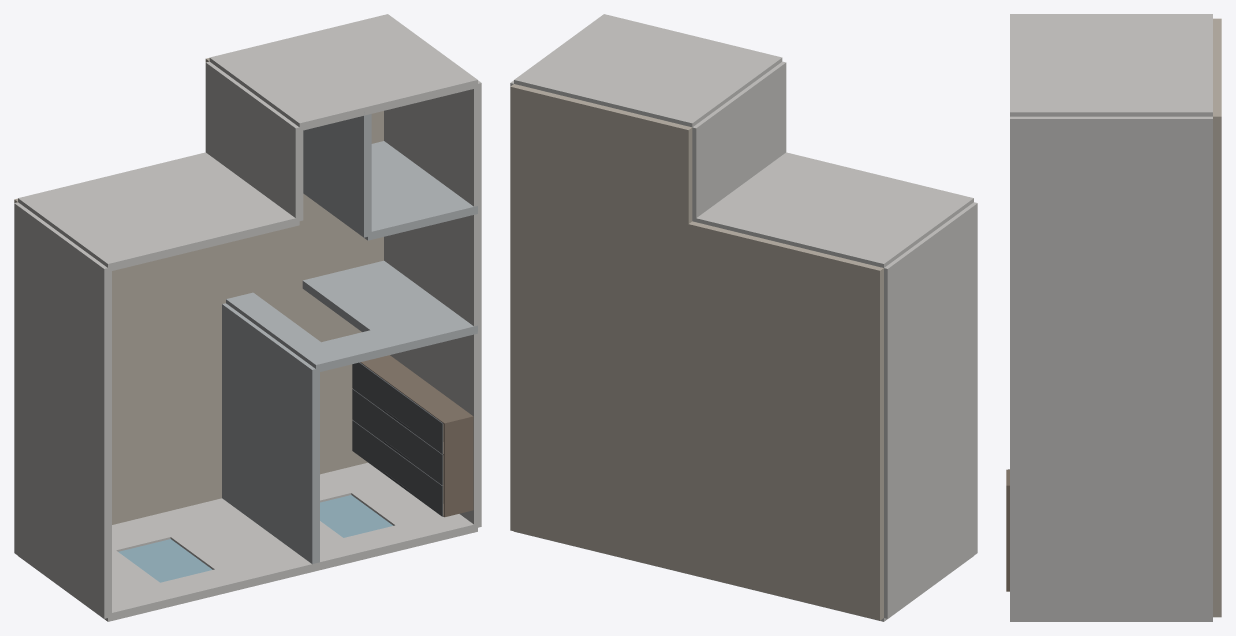
File: kvartira_so_shkafom.glb
The picture shows the model from 3 angles, left to right: view 1: azimuth 30°, elevation 25°; view 2: azimuth 150°, elevation 25°; view 3: azimuth 270°, elevation 25°; orthographic projection. The views are drawn at different scales.
Visible parts, largest first — view 1: Пол — основная часть, Наружная стена слева, Правая стена, Перегородка справа снизу, Верхняя левая стена, Верхняя стена выступа, Ступень выступа, Нижняя стена 2, Поперечная перегородка справа от проёма, Перегородка верхнего помещения, Перегородка верхнего помещения горизонтальная, Нижняя стена 3 (+13 smaller); view 2: Пол — основная часть, Наружная стена слева, Пол — верхний выступ, Верхняя левая стена, Верхняя стена выступа, Ступень выступа; view 3: Правая стена, Верхняя стена выступа, Пол — основная часть, Пол — верхний выступ, Нижняя стена 3, Шкаф — задняя стенка, тёмное дерево.
Boxes of the visible parts, bbox=[...] form: Пол — основная часть: bbox=[14, 113, 383, 524]; Наружная стена слева: bbox=[14, 202, 111, 618]; Правая стена: bbox=[384, 80, 481, 528]; Перегородка справа снизу: bbox=[222, 303, 319, 563]; Верхняя левая стена: bbox=[18, 152, 299, 271]; Верхняя стена выступа: bbox=[209, 14, 477, 130]; Ступень выступа: bbox=[205, 61, 303, 221]; Нижняя стена 2: bbox=[144, 498, 362, 590]; Поперечная перегородка справа от проёма: bbox=[302, 260, 477, 354]; Перегородка верхнего помещения: bbox=[303, 112, 371, 237]; Перегородка верхнего помещения горизонтальная: bbox=[304, 141, 477, 240]; Нижняя стена 3: bbox=[325, 462, 477, 546]; Пол — основная часть: bbox=[510, 180, 883, 620]; Наружная стена слева: bbox=[884, 202, 977, 618]; Пол — верхний выступ: bbox=[510, 84, 692, 223]; Верхняя левая стена: bbox=[692, 152, 973, 267]; Верхняя стена выступа: bbox=[514, 14, 782, 127]; Ступень выступа: bbox=[692, 61, 786, 218]; Правая стена: bbox=[1010, 116, 1212, 619]; Верхняя стена выступа: bbox=[1010, 14, 1212, 116]; Пол — основная часть: bbox=[1213, 222, 1221, 617]; Пол — верхний выступ: bbox=[1213, 18, 1221, 222]; Нижняя стена 3: bbox=[1010, 619, 1212, 621]; Шкаф — задняя стенка, тёмное дерево: bbox=[1006, 485, 1009, 591].
Bounding box in the file's own units: 6.9 × 7.89 × 3.02.
